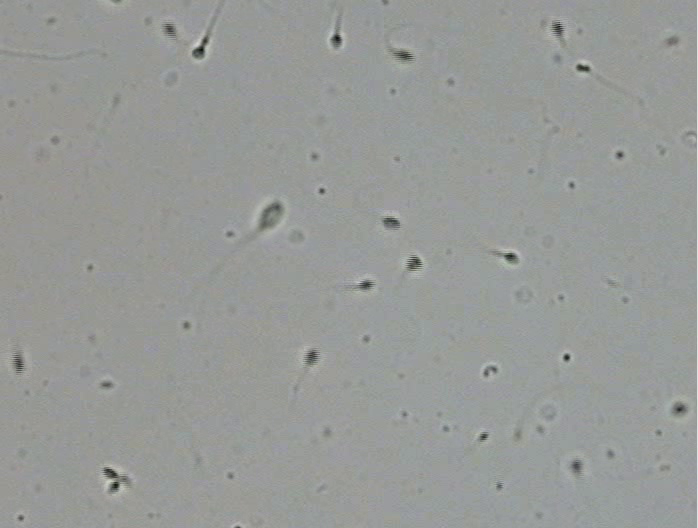S: (258, 202, 285, 229), (303, 348, 321, 367), (405, 254, 424, 272), (11, 352, 24, 375), (549, 19, 565, 37), (393, 49, 415, 62), (382, 216, 401, 230), (163, 22, 177, 39), (101, 466, 119, 479), (357, 279, 376, 291), (503, 252, 520, 265), (673, 402, 688, 416), (330, 33, 343, 49), (192, 45, 205, 60), (108, 481, 120, 494), (571, 459, 582, 472), (575, 63, 590, 72)
